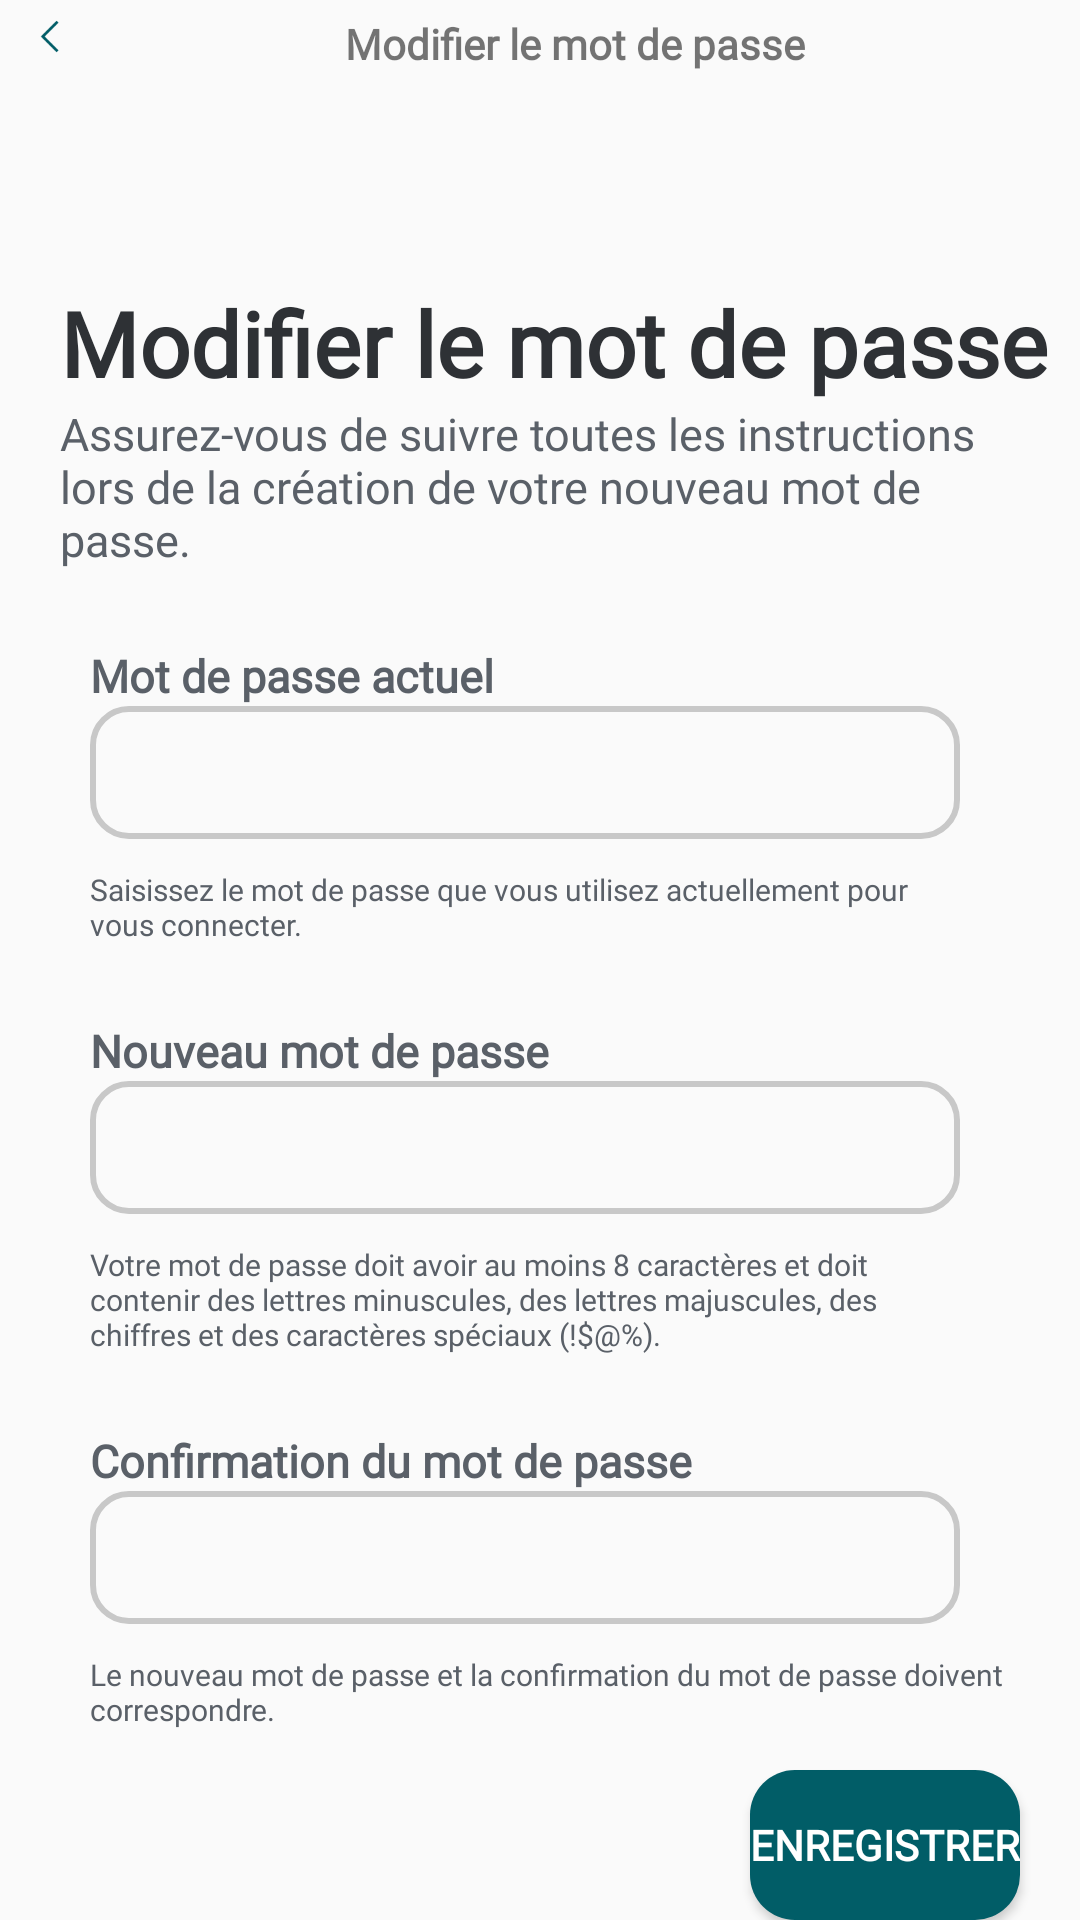

Icon click points for this 1080x1920 phone screenshot, format (x=x, y=y):
back: (x=50, y=36)
